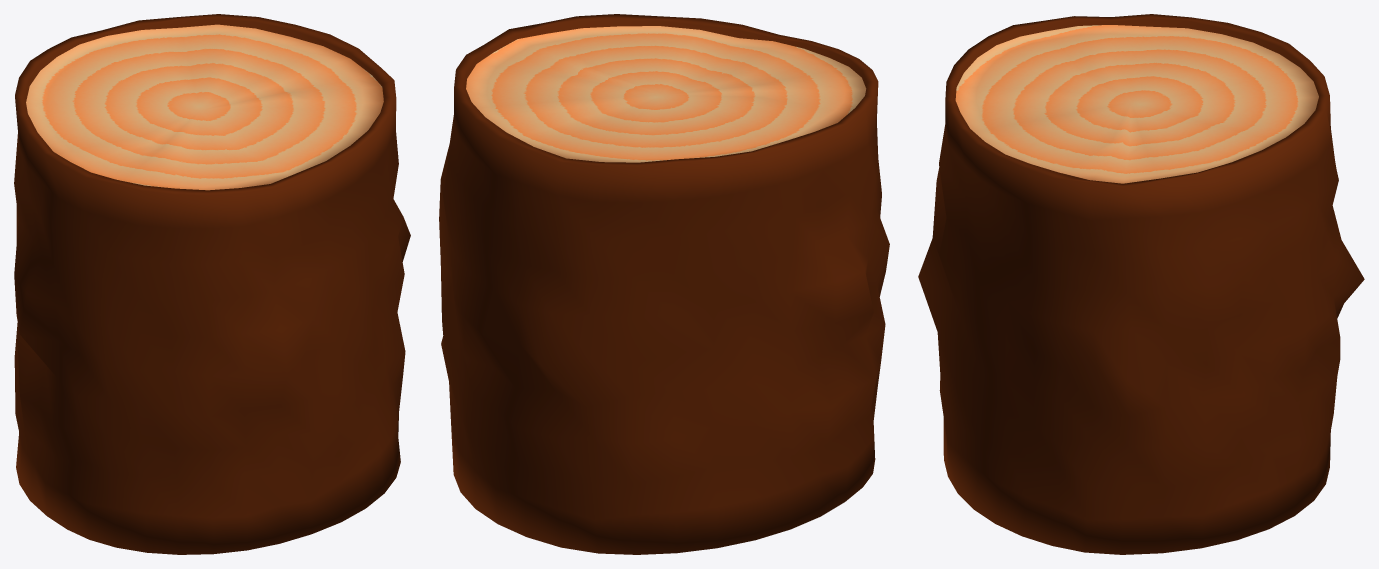
The model's file is Stump.fbx.
The picture shows the model from 3 angles, left to right: view 1: azimuth 30°, elevation 25°; view 2: azimuth 150°, elevation 25°; view 3: azimuth 270°, elevation 25°; orthographic projection. The views are drawn at different scales.
Visible parts, largest first — view 1: Cylinder; view 2: Cylinder; view 3: Cylinder.
Part boxes in pixels (x1,y1,x2,y2): Cylinder: (14, 14, 410, 554); Cylinder: (439, 14, 889, 554); Cylinder: (918, 14, 1364, 554).
Size of the model in its own units: 223 by 201 by 215.
